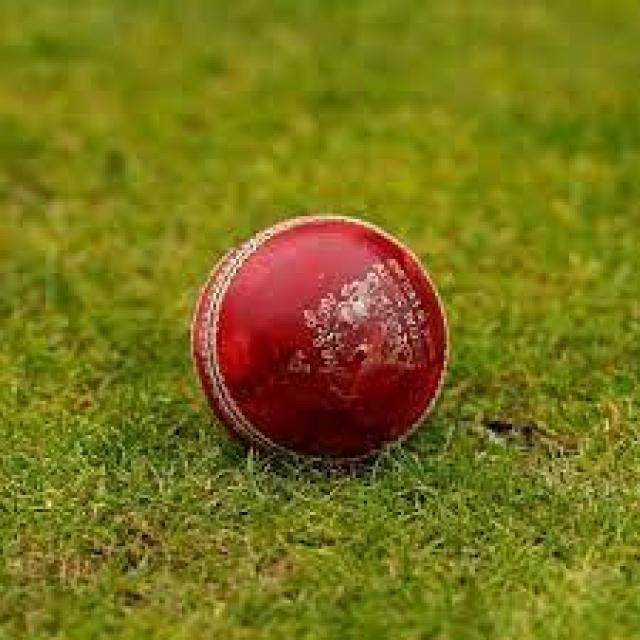ball: (190, 213, 450, 458)
